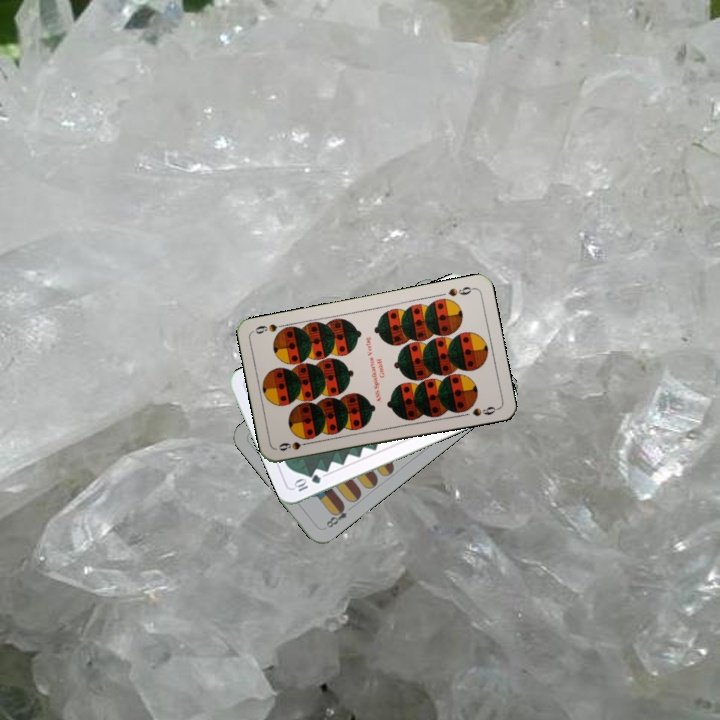E8: (322, 501, 350, 531)
G10: (290, 470, 324, 494)
S9: (275, 437, 315, 454), (444, 283, 477, 299)
